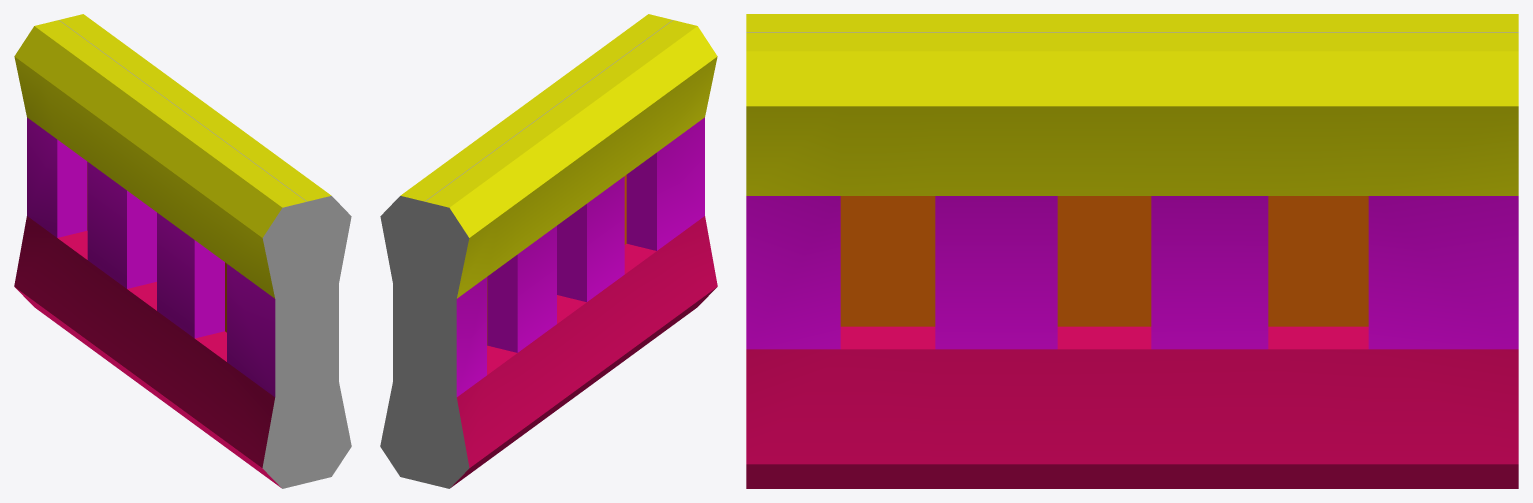
Rendered from Wall2.fbx.
3 views of the same model, side by side, from view 1: azimuth 30°, elevation 25°; view 2: azimuth 150°, elevation 25°; view 3: azimuth 270°, elevation 25° (orthographic). The views are drawn at different scales.
Parts seen in each view (by area): view 1: pCube89; view 2: pCube89; view 3: pCube89.
Part boxes in pixels (x1,y1,x2,y2): pCube89: (14,14,351,488); pCube89: (380,14,717,488); pCube89: (746,14,1518,488).
Bounding box in the file's own units: 49.87 × 150 × 240.
